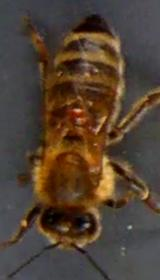varroa_mite: (64, 97, 92, 127)
